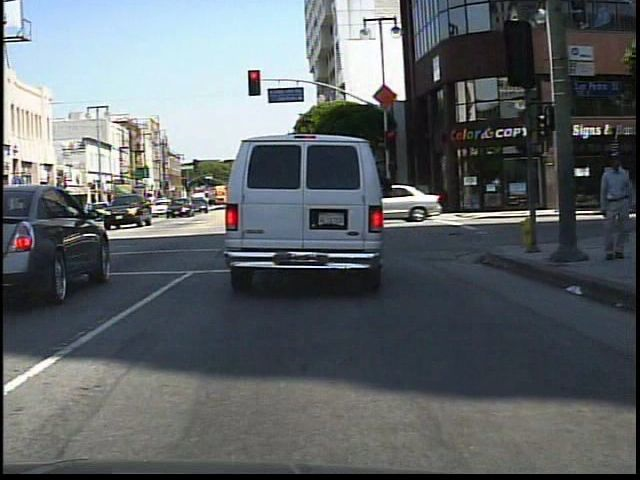person: (595, 147, 633, 263)
